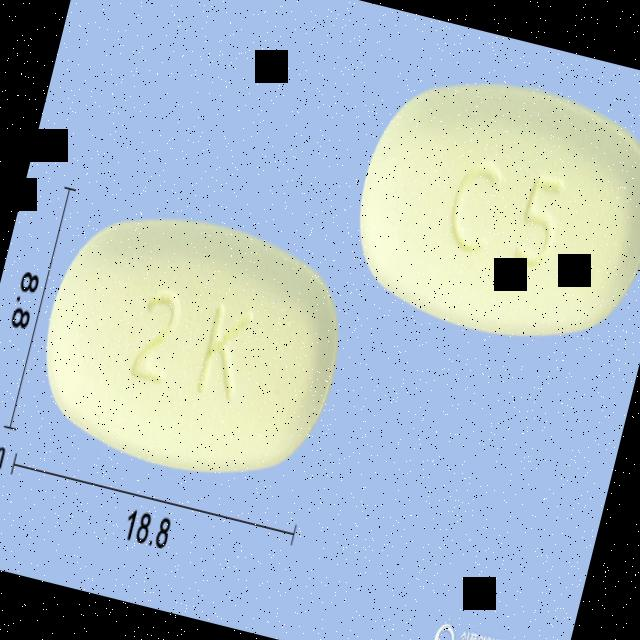Clithocin: (20, 188, 362, 504), (332, 51, 640, 366)
